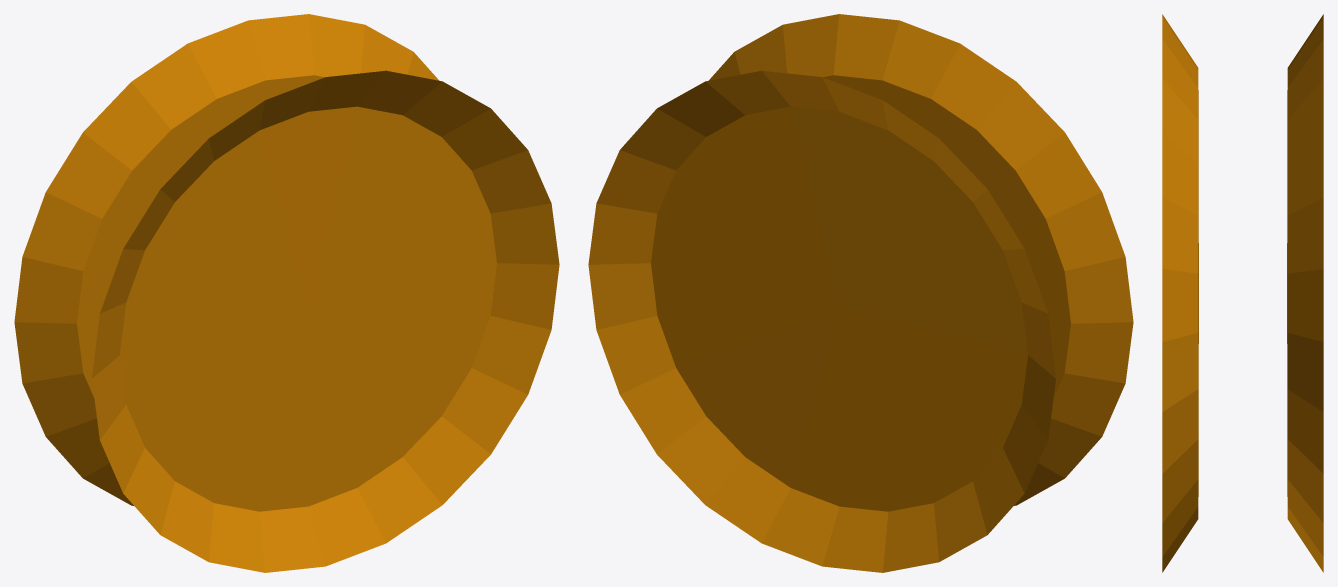
The model's file is right_hubcap.dae.
The picture shows the model from 3 angles, left to right: view 1: azimuth 30°, elevation 25°; view 2: azimuth 150°, elevation 25°; view 3: azimuth 270°, elevation 25°; orthographic projection. The views are drawn at different scales.
Parts seen in each view (by area): view 1: Right_Hubcap; view 2: Right_Hubcap; view 3: Right_Hubcap.
Boxes of the visible parts, x1,y1,x2,y2 form: Right_Hubcap: (14,14,559,572); Right_Hubcap: (588,14,1133,572); Right_Hubcap: (1162,14,1323,572).
Size of the model in its own units: 0.1045 by 0.03 by 0.1045.
